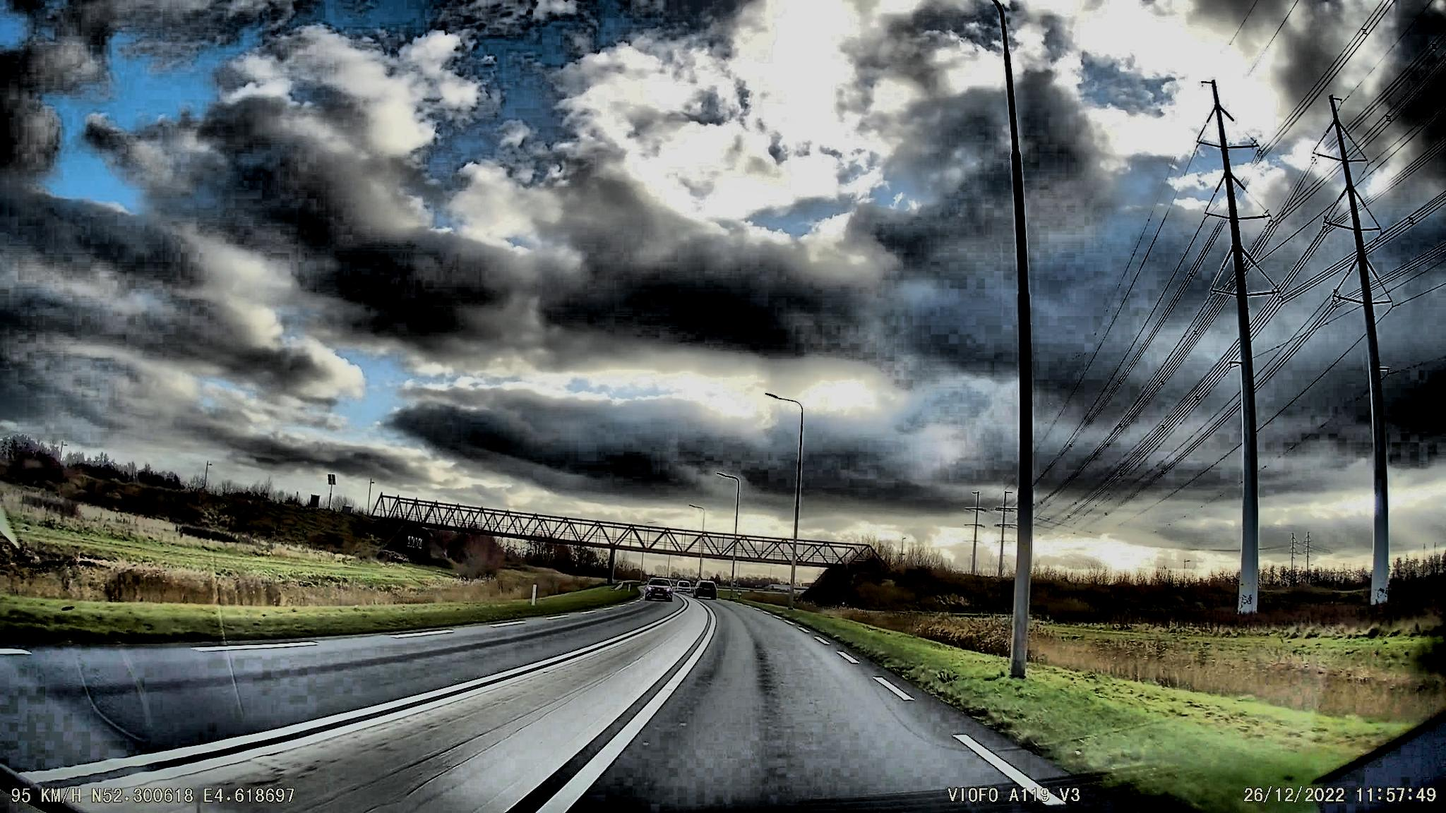Roads: (0, 602, 1150, 813)
